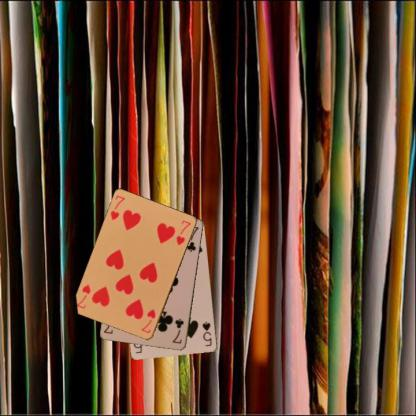5s: (200, 320, 213, 347)
7c: (170, 316, 185, 345)
7h: (139, 306, 157, 335), (108, 193, 126, 222)
